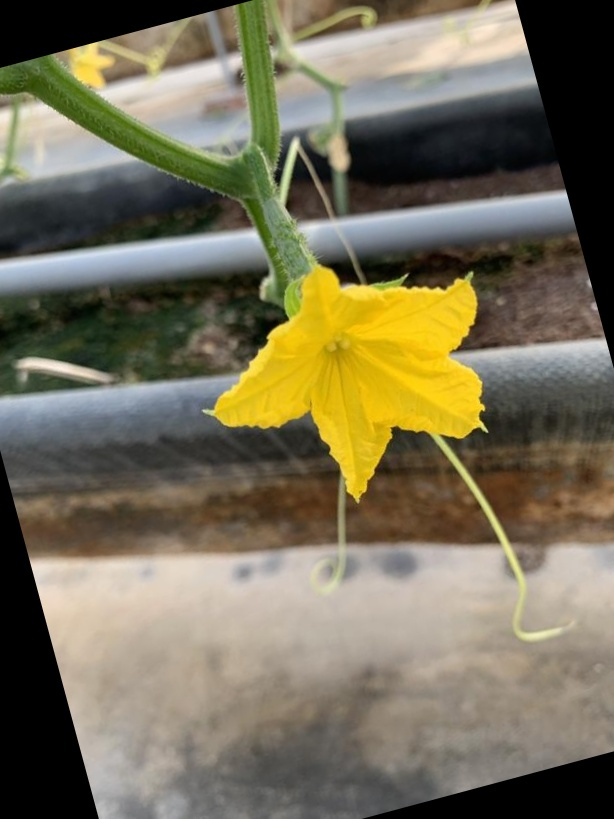flowering: (194, 167, 493, 509)
